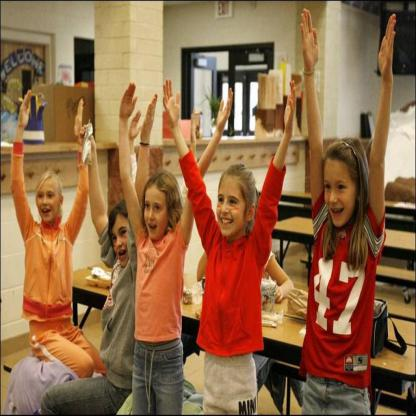face: (325, 161, 357, 227), (217, 178, 247, 237), (146, 185, 168, 240), (111, 214, 132, 267), (38, 179, 60, 223)
